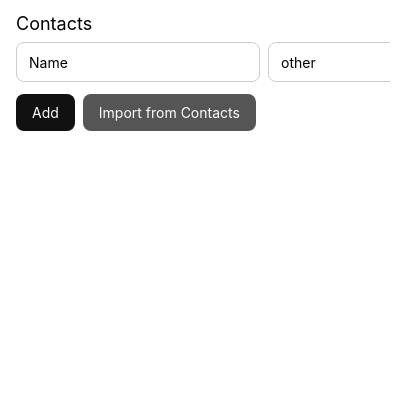
Test: ContactsScreen › imports from device contacts when permission granted
Click the text "Import from Contacts": (169, 112) [99, 104, 240, 121]
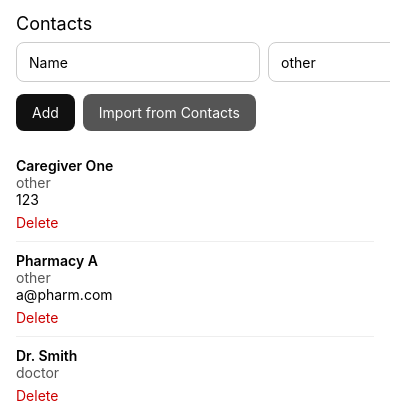
Check: the text "Caregiver One" is shown, box [16, 157, 113, 174]
Check: the text "Pharmacy A" is shown, box [16, 252, 98, 269]
